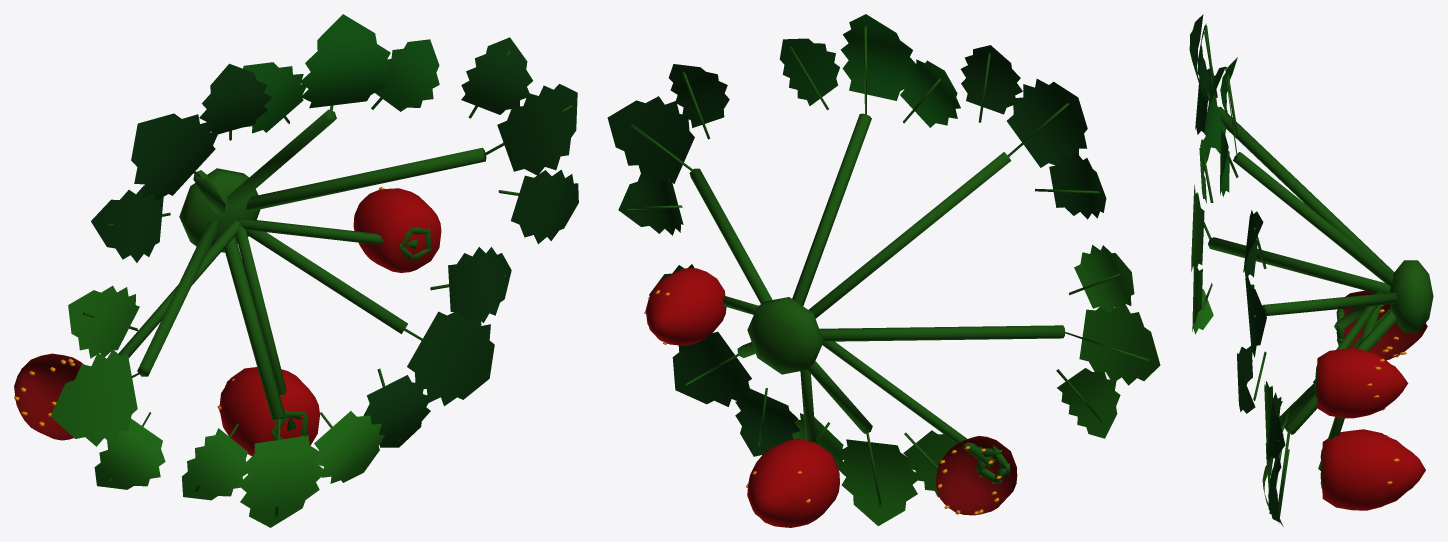
The model's file is plant_variant_24.obj.
3 views of the same model, side by side, from view 1: azimuth 30°, elevation 25°; view 2: azimuth 150°, elevation 25°; view 3: azimuth 270°, elevation 25° (orthographic). The views are drawn at different scales.
Parts seen in each view (by area): view 1: field_export_plant_variant_24; view 2: field_export_plant_variant_24; view 3: field_export_plant_variant_24.
Boxes of the visible parts, x1,y1,x2,y2 form: field_export_plant_variant_24: (14, 14, 578, 527); field_export_plant_variant_24: (607, 14, 1160, 527); field_export_plant_variant_24: (1189, 14, 1433, 526).
Bounding box in the file's own units: 0.641 × 0.57 × 0.272.
